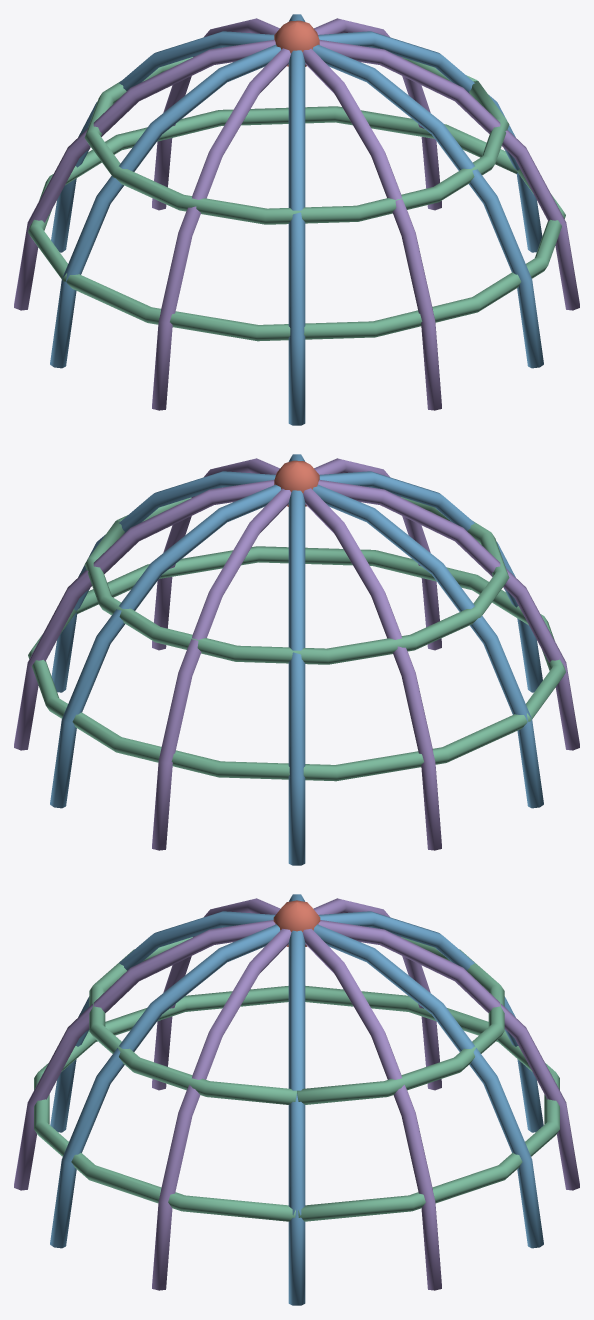
The model's file is play_climber.glb.
3 views of the same model, one above another, from view 1: azimuth 30°, elevation 25°; view 2: azimuth 150°, elevation 25°; view 3: azimuth 270°, elevation 25° (orthographic).
Visible parts, largest first — view 1: Climber; view 2: Climber; view 3: Climber.
Boxes of the visible parts, bbox=[...] form: Climber: bbox=[14, 14, 579, 425]; Climber: bbox=[14, 454, 579, 865]; Climber: bbox=[14, 894, 579, 1305].
Bounding box in the file's own units: 2.77 × 1.54 × 2.77.
